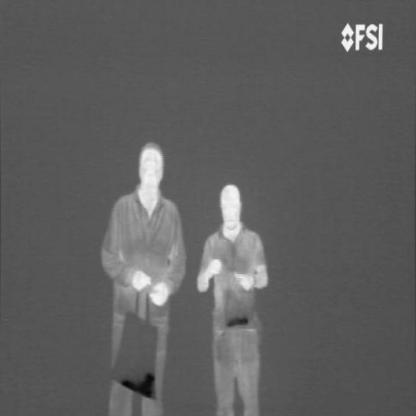weapon: (118, 367, 156, 400)
